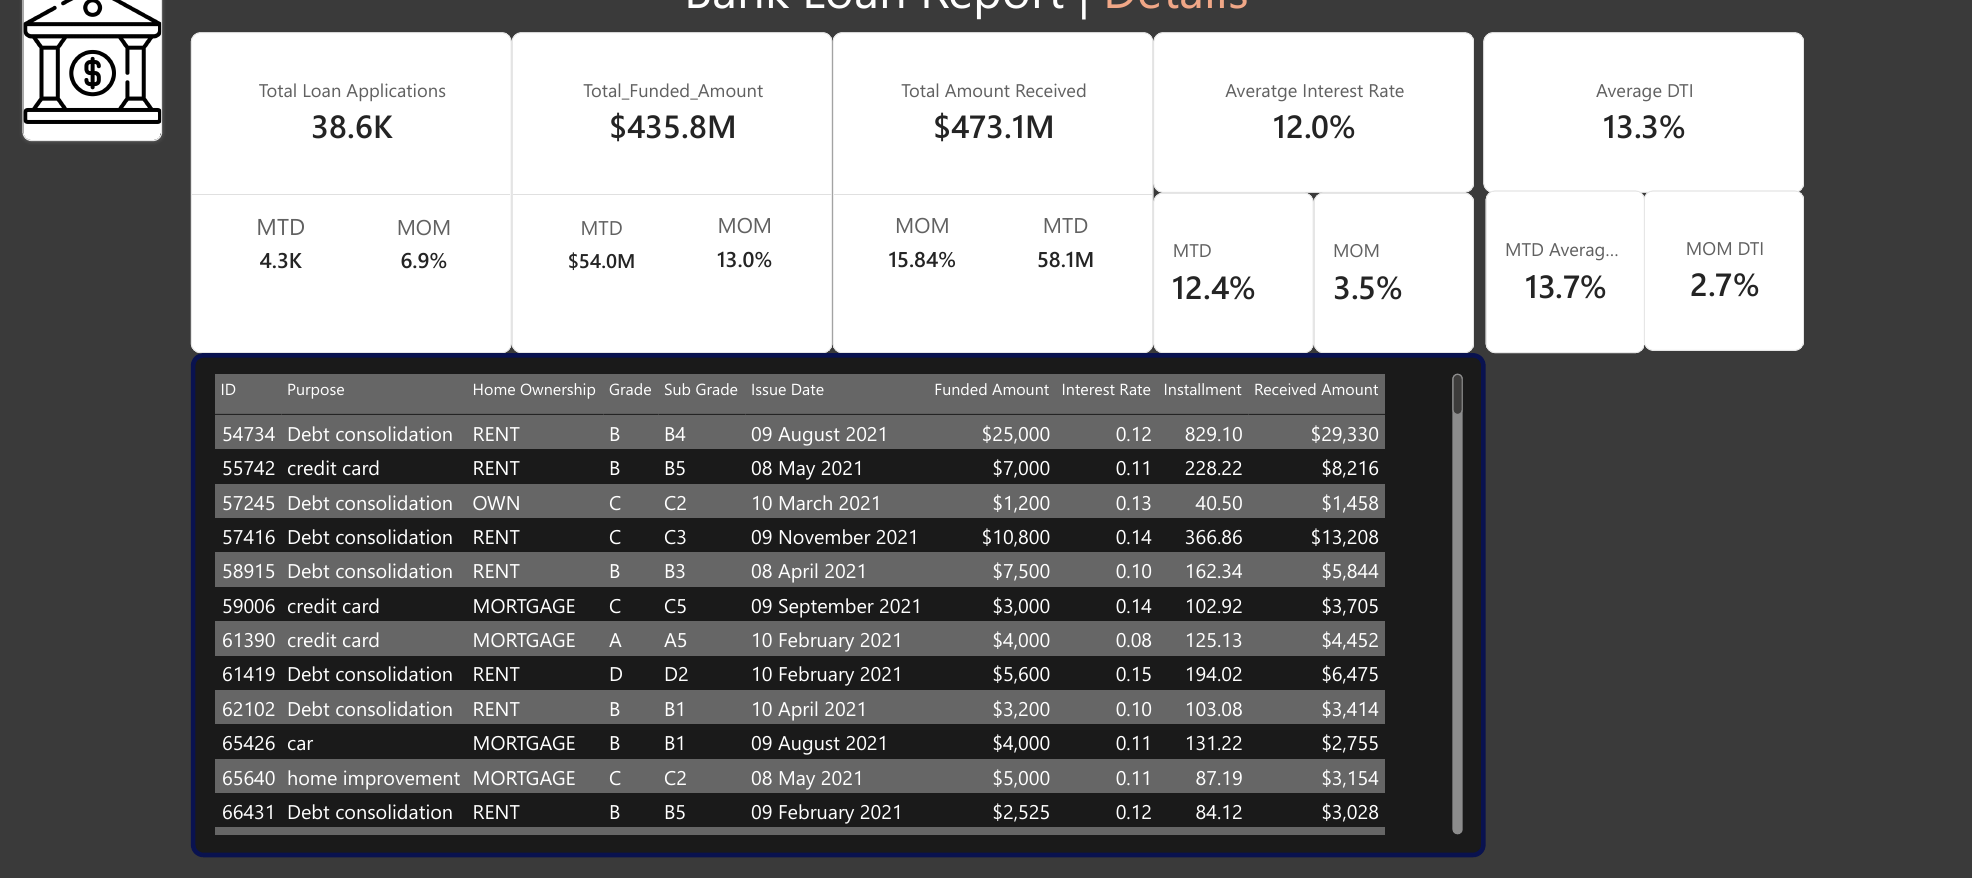

This screenshot's page, from the dashboard's own definition file:
{"tool":"powerbi","page":{"name":"Details","canvas":[1920,1080],"ordinal":2},"visuals":[{"type":"cardVisual","fields":{"Data":["_measures.Total_Loan_Applications"]},"box":[166.7,66.7,280,280],"z":0},{"type":"cardVisual","fields":{"Data":["_measures.Total_Funded_Amount"]},"box":[446.7,66.7,280,280],"z":1000},{"type":"cardVisual","fields":{"Data":["_measures.Total Mount Recieved"]},"box":[726.7,66.7,280,280],"z":2000},{"type":"cardVisual","fields":{"Data":["_measures.Averatge INterest Rate"]},"box":[1006.7,66.7,280,140],"z":3000},{"type":"cardVisual","fields":{"Data":["_measures.MOM Interest Rate"]},"box":[1146.7,206.7,140,140],"z":4000},{"type":"cardVisual","fields":{"Data":["_measures.MTD Average Interest Rate"]},"box":[1006.7,206.7,140,140],"z":5000},{"type":"cardVisual","fields":{"Data":["_measures.Average DTI"]},"box":[1295,66.7,280,140],"z":6000},{"type":"cardVisual","fields":{"Data":["_measures.MTD Average DTI"]},"box":[1296.7,205,139.7,141.7],"z":7000},{"type":"cardVisual","fields":{"Data":["_measures.MOM DTI"]},"box":[1435,205,140,140],"z":8000},{"type":"image","box":[20,11.7,121.7,150],"z":9000},{"type":"tableEx","fields":{"Values":["financial_loan.id","financial_loan.purpose","Dim_Client Data.home_ownership","Dim_Client Data.grade","financial_loan.sub_grade","financial_loan.issue_date","Sum(financial_loan.loan_amount)","Sum(financial_loan.int_rate)","Sum(financial_loan.installment)","Sum(financial_loan.total_payment)"]},"box":[166.7,346.7,1130,440],"z":9001},{"type":"textbox","box":[598.3,0,836.7,66.7],"z":9002}]}

Visuals, with their boxes on the page's 1920x1080 design canvas (x1, y1, x2, y2). These are canvas units, not pixel positions in the 1972x878 screenshot, which may show the page scaled, cropped or inside an application window:
cardVisual - _measures.Total_Loan_Applications: pyautogui.locateOnScreen(167, 67, 447, 347)
cardVisual - _measures.Total_Funded_Amount: pyautogui.locateOnScreen(447, 67, 727, 347)
cardVisual - _measures.Total Mount Recieved: pyautogui.locateOnScreen(727, 67, 1007, 347)
cardVisual - _measures.Averatge INterest Rate: pyautogui.locateOnScreen(1007, 67, 1287, 207)
cardVisual - _measures.MOM Interest Rate: pyautogui.locateOnScreen(1147, 207, 1287, 347)
cardVisual - _measures.MTD Average Interest Rate: pyautogui.locateOnScreen(1007, 207, 1147, 347)
cardVisual - _measures.Average DTI: pyautogui.locateOnScreen(1295, 67, 1575, 207)
cardVisual - _measures.MTD Average DTI: pyautogui.locateOnScreen(1297, 205, 1436, 347)
cardVisual - _measures.MOM DTI: pyautogui.locateOnScreen(1435, 205, 1575, 345)
image: pyautogui.locateOnScreen(20, 12, 142, 162)
tableEx - financial_loan.id x financial_loan.purpose: pyautogui.locateOnScreen(167, 347, 1297, 787)
textbox: pyautogui.locateOnScreen(598, 0, 1435, 67)
